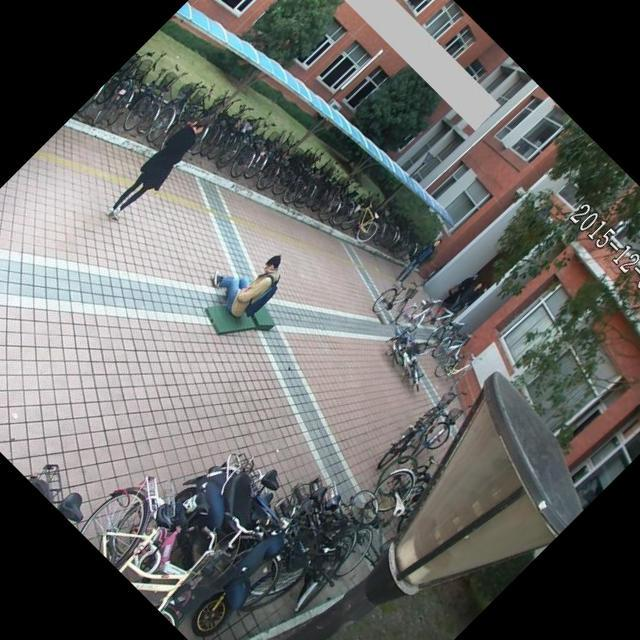person: (88, 99, 227, 238), (200, 228, 301, 329), (388, 228, 450, 290)
